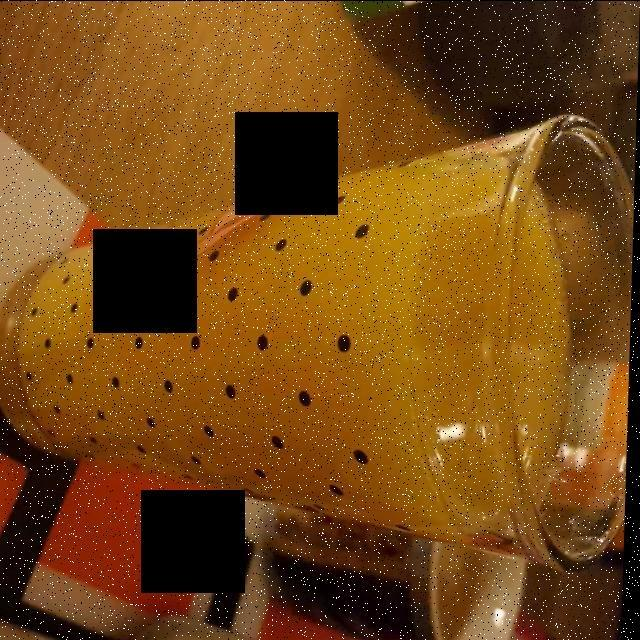drink: (36, 139, 583, 553)
